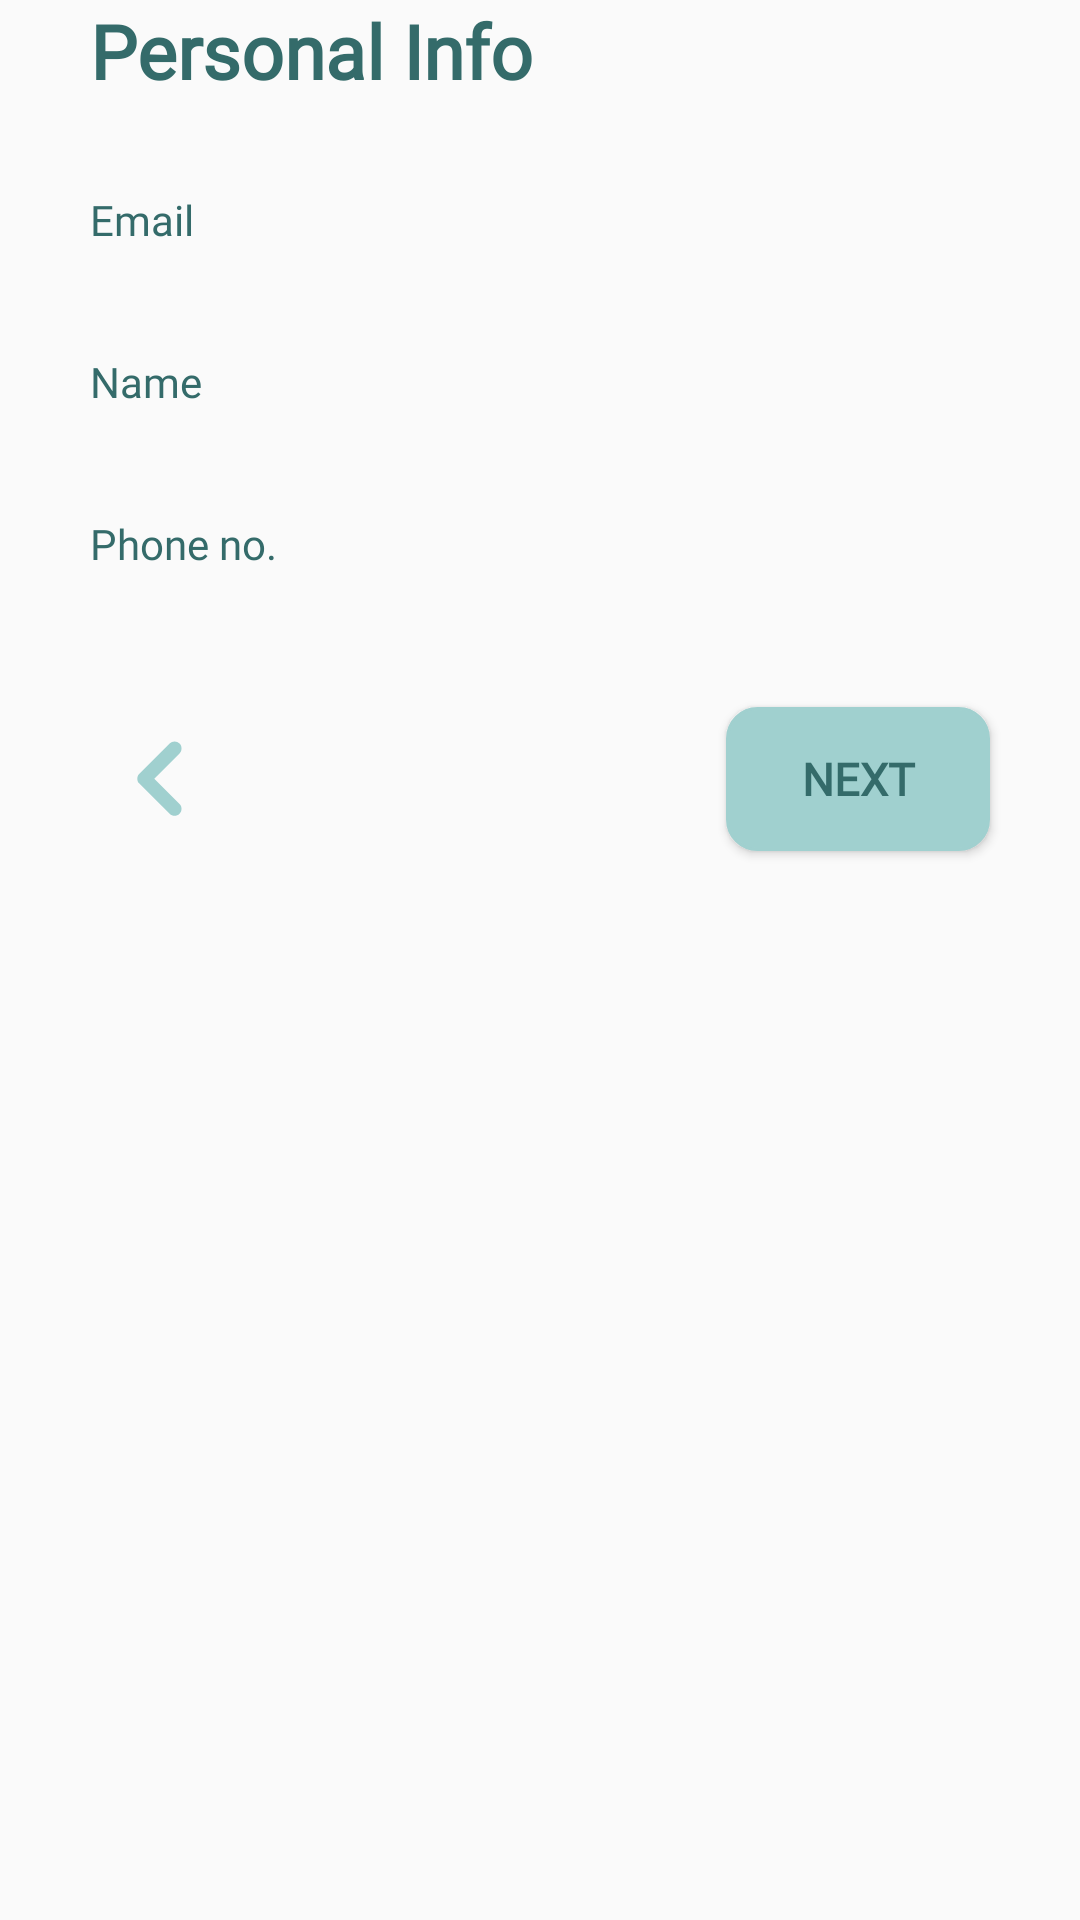

Icons on this 1080 x 1920 Android screen, each with its box as (x1, y1, x2, y2):
back: (137, 741, 182, 816)
